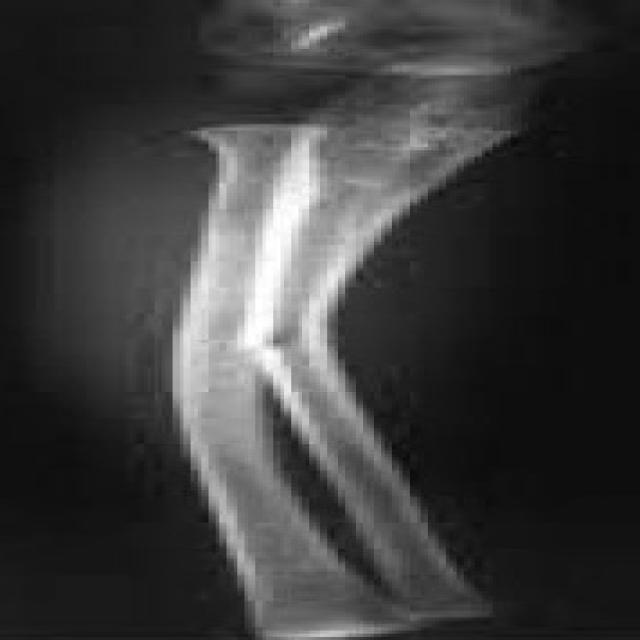Longitudinal: (167, 272, 500, 394)
